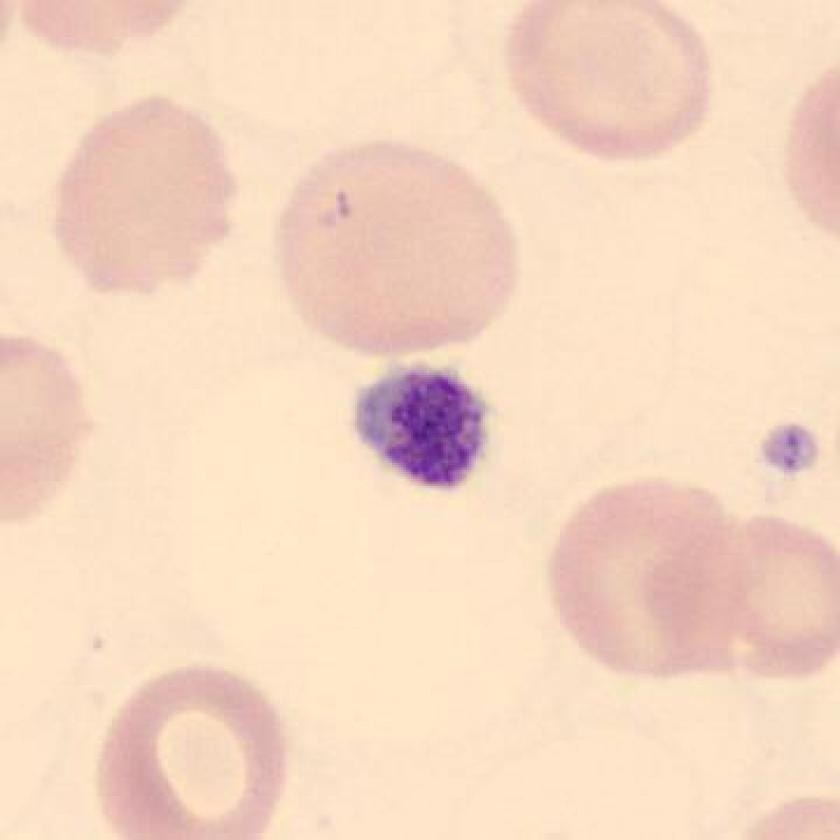platelets: (344, 353, 500, 505), (752, 413, 825, 485)
